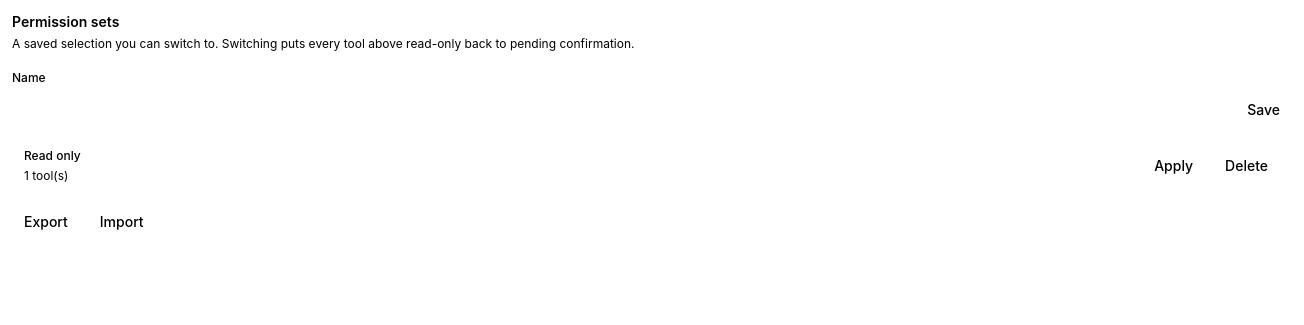
an imported destructive tool arrives pending, not enabled
Click the button "Import".
click(122, 222)  # box [88,204,156,240]
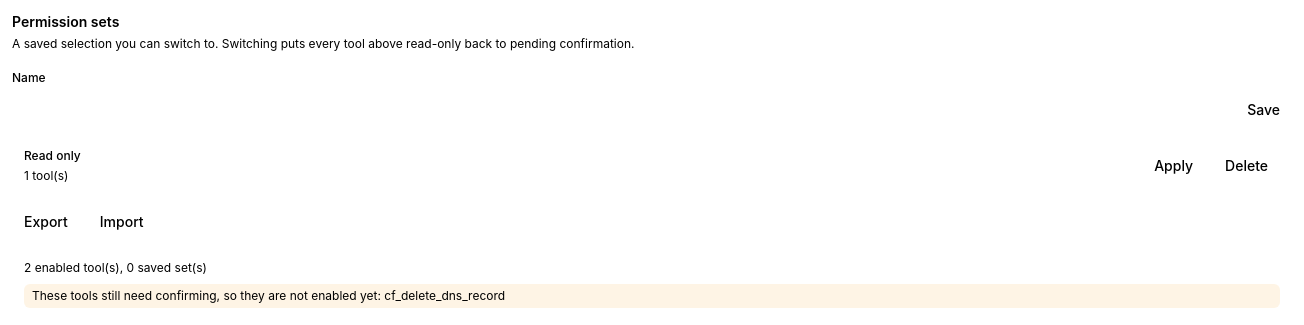
expect the 2nd list item is shown: met, box [24,284,1280,308]
expect the 2nd list item shows "still need confirming": met, box [32,288,505,303]
expect the 2nd list item shows "cf_delete_dns_record": met, box [32,288,505,303]
